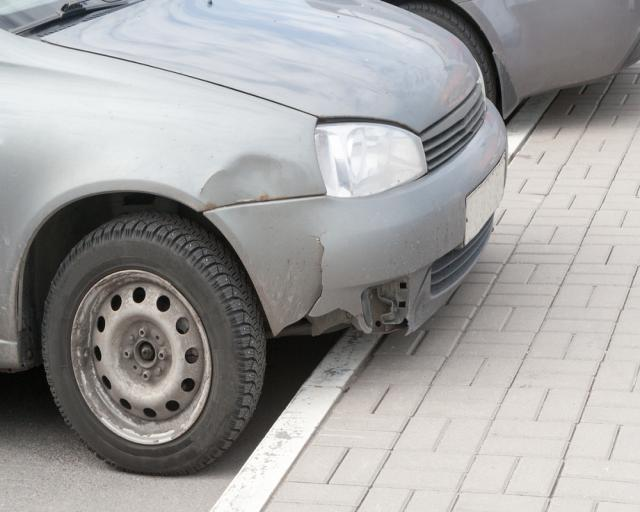crack: (305, 229, 328, 315)
dent: (200, 155, 303, 209)
